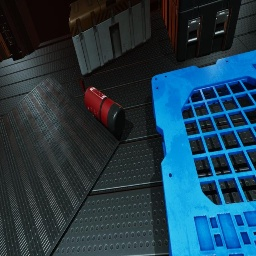FireExtinguisher ]: (78, 78, 126, 137)
NitrogenTank ,: (150, 0, 162, 14)
